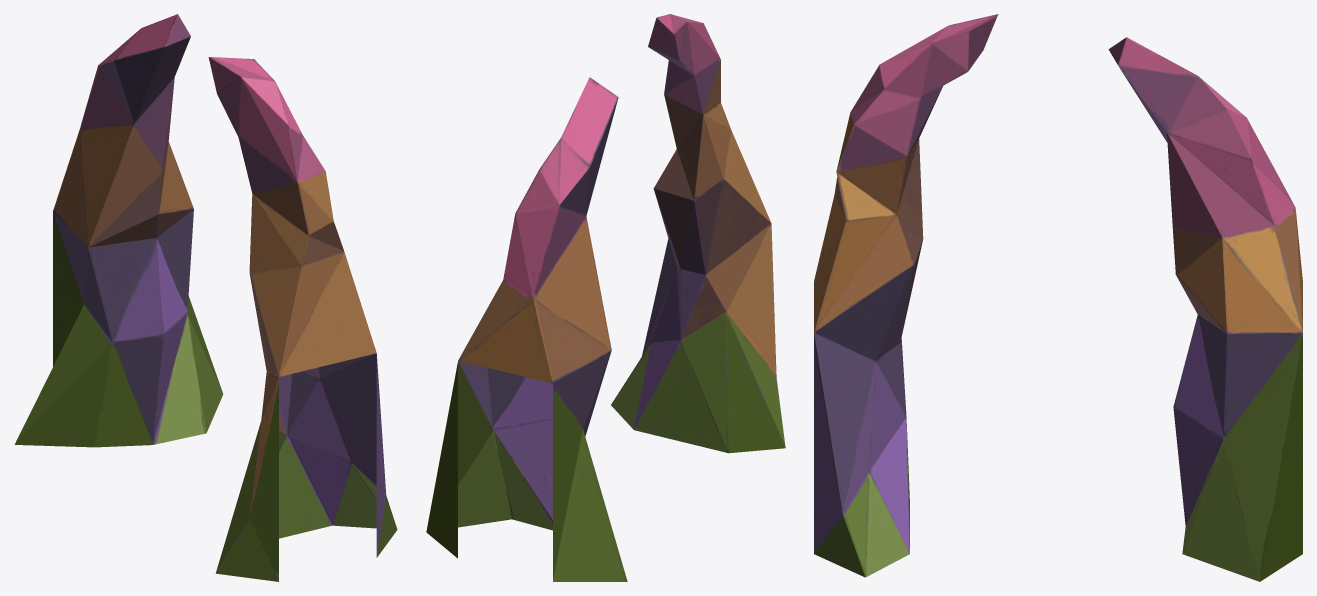
File: door02.fbx
3 renders of one model, left to right at view 1: azimuth 30°, elevation 25°; view 2: azimuth 150°, elevation 25°; view 3: azimuth 270°, elevation 25°, orthographic. The views are drawn at different scales.
Visible parts, largest first — view 1: door02; view 2: door02; view 3: door02.
Boxes of the visible parts, bbox=[...] form: door02: bbox=[14, 14, 397, 581]; door02: bbox=[426, 14, 785, 581]; door02: bbox=[814, 14, 1302, 581].
Size of the model in its own units: 0.0213 by 0.0448 by 0.04.
